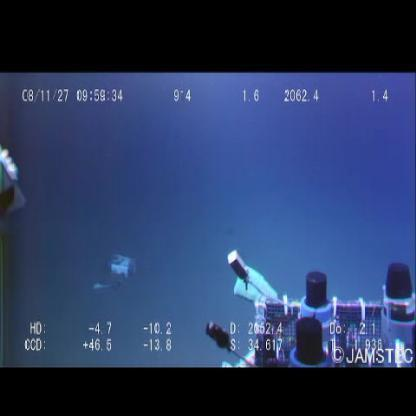Rác: (94, 253, 136, 291)
